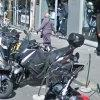Motorcycle: (5, 25, 85, 94)
